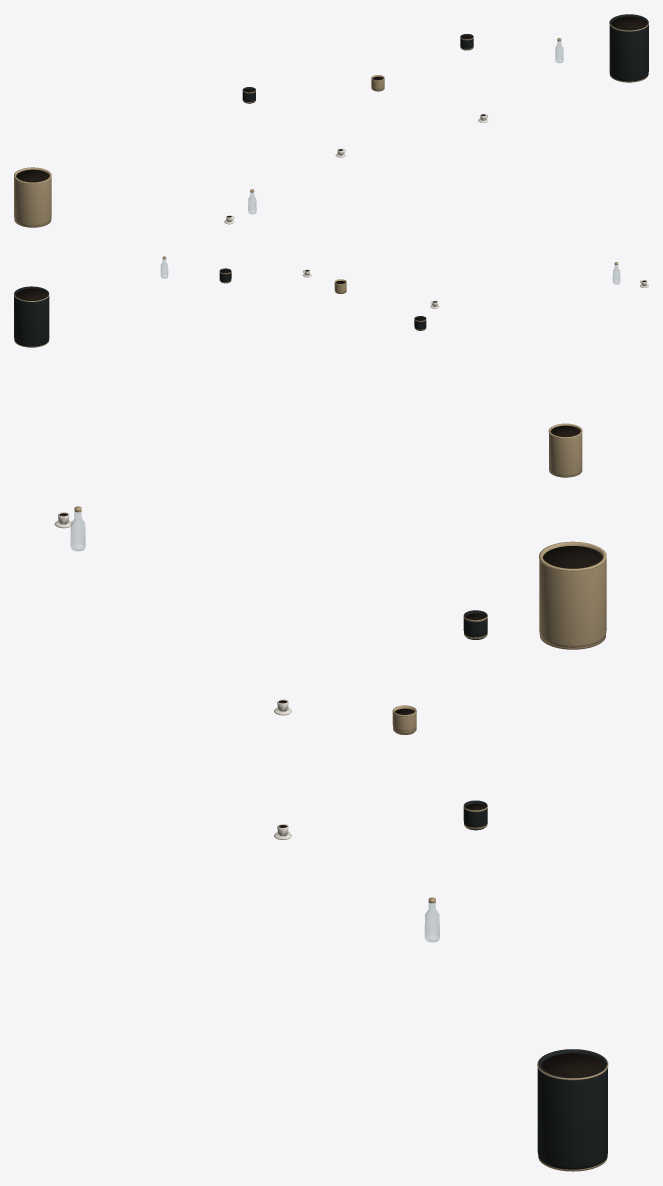
File: projection-interior-details-v10.glb
3 renders of one model, top to bottom at view 1: azimuth 30°, elevation 25°; view 2: azimuth 150°, elevation 25°; view 3: azimuth 270°, elevation 25°, orthographic. The views are drawn at different scales.
Visible parts, largest first — view 1: Projection Interior V10 | black satin ceramic planter body, Projection Interior V10 | soft satin champagne metal details, Projection Interior V10 | dark granular planting soil, Projection Interior V10 | clear glass drinking vessels; view 2: Projection Interior V10 | black satin ceramic planter body, Projection Interior V10 | soft satin champagne metal details, Projection Interior V10 | dark granular planting soil; view 3: Projection Interior V10 | black satin ceramic planter body, Projection Interior V10 | soft satin champagne metal details, Projection Interior V10 | dark granular planting soil, Projection Interior V10 | clear glass drinking vessels.
Boxes of the visible parts, left/top/right/bottom form: Projection Interior V10 | black satin ceramic planter body: left=242, top=14, right=648, bottom=103; Projection Interior V10 | soft satin champagne metal details: left=14, top=20, right=648, bottom=227; Projection Interior V10 | dark granular planting soil: left=16, top=16, right=646, bottom=182; Projection Interior V10 | clear glass drinking vessels: left=248, top=41, right=563, bottom=214; Projection Interior V10 | black satin ceramic planter body: left=14, top=268, right=426, bottom=346; Projection Interior V10 | soft satin champagne metal details: left=14, top=256, right=618, bottom=477; Projection Interior V10 | dark granular planting soil: left=16, top=270, right=580, bottom=436; Projection Interior V10 | black satin ceramic planter body: left=463, top=610, right=607, bottom=1169; Projection Interior V10 | soft satin champagne metal details: left=74, top=506, right=608, bottom=1171; Projection Interior V10 | dark granular planting soil: left=395, top=546, right=604, bottom=1077; Projection Interior V10 | clear glass drinking vessels: left=70, top=511, right=439, bottom=942.
Bounding box in the file's own units: 8.13 × 1.38 × 3.46.
